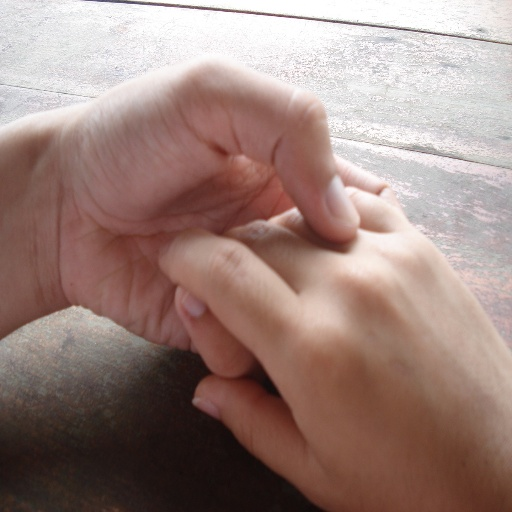hand: (156, 183, 511, 511), (54, 50, 410, 358)
